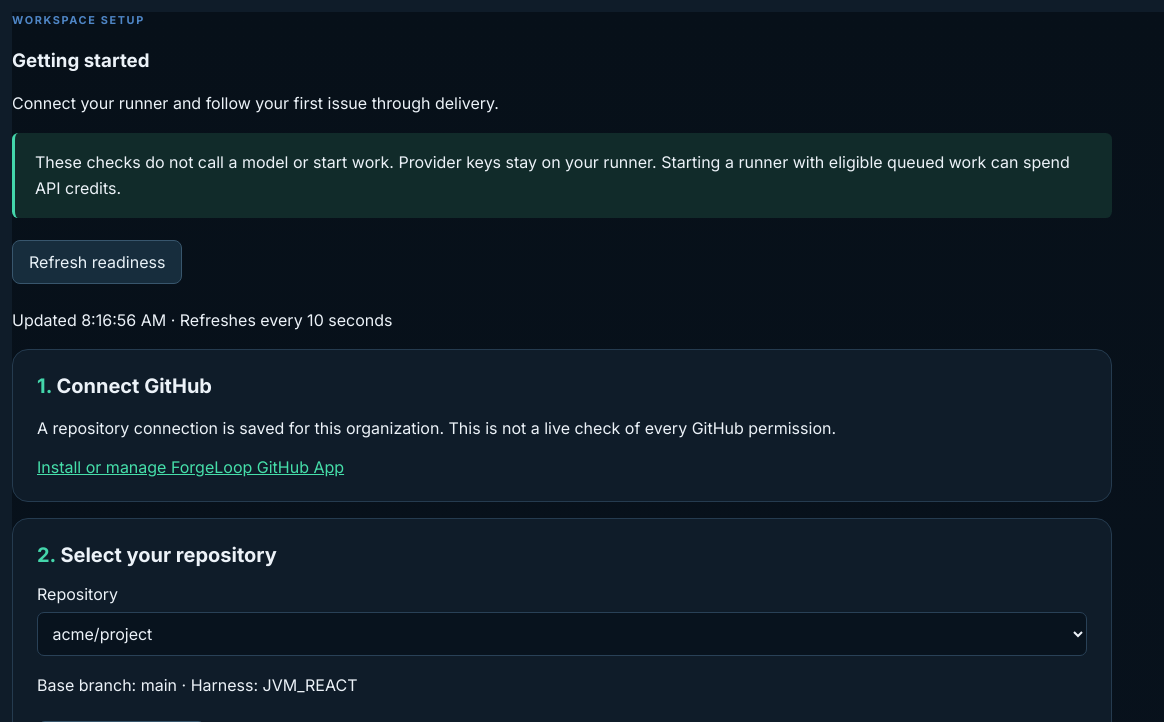
Test: marks previously successful metadata stale when refresh fails
Check: the dropdown labelled "Repository" is shown, box [37,612,1087,656]
Click the button "Refresh readiness": x=97, y=262 [12,240,182,284]
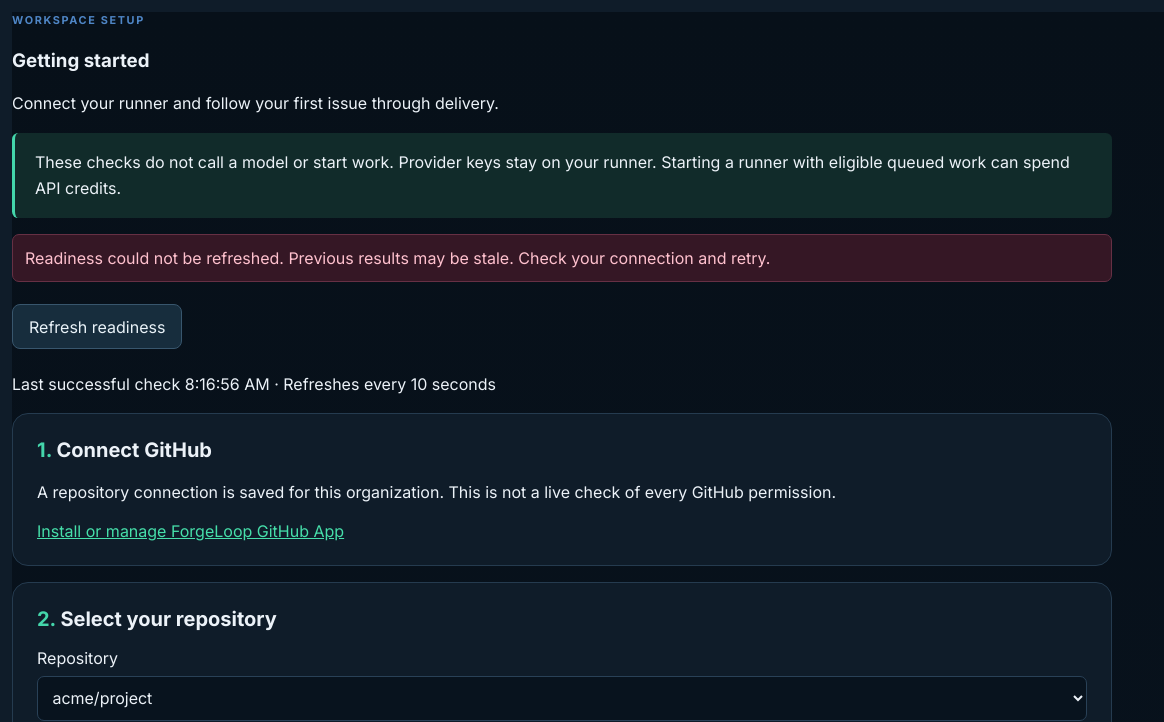
Check: the 1st message shows "Previous results may be stale", box [25,248,770,268]
Check: the message "Last successful check 8:16:56 AM · Refreshes every 10 seconds" is shown, box [12,374,496,394]
